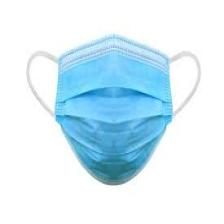mask: (26, 32, 202, 187)
